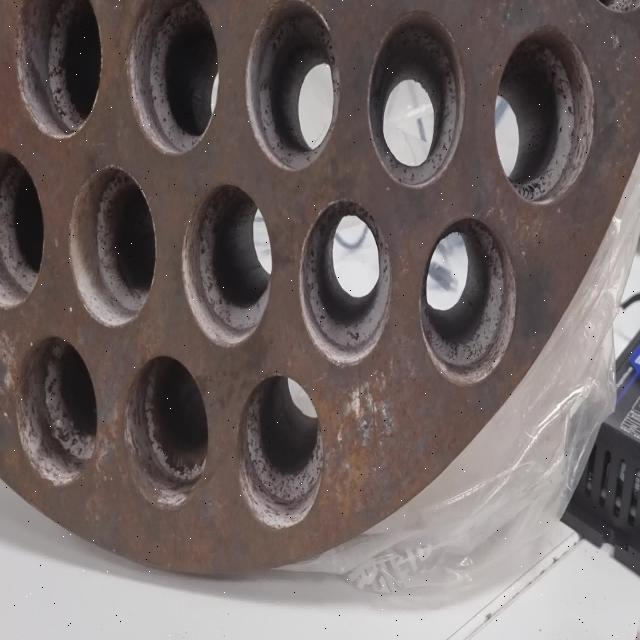Hole: (494, 26, 595, 204), (368, 11, 466, 188), (419, 217, 517, 386), (245, 1, 341, 172), (298, 198, 392, 366), (182, 182, 272, 348), (126, 0, 220, 156), (68, 166, 156, 328), (236, 372, 324, 532), (124, 354, 208, 510), (14, 335, 98, 486), (15, 0, 102, 139), (0, 150, 44, 310)
